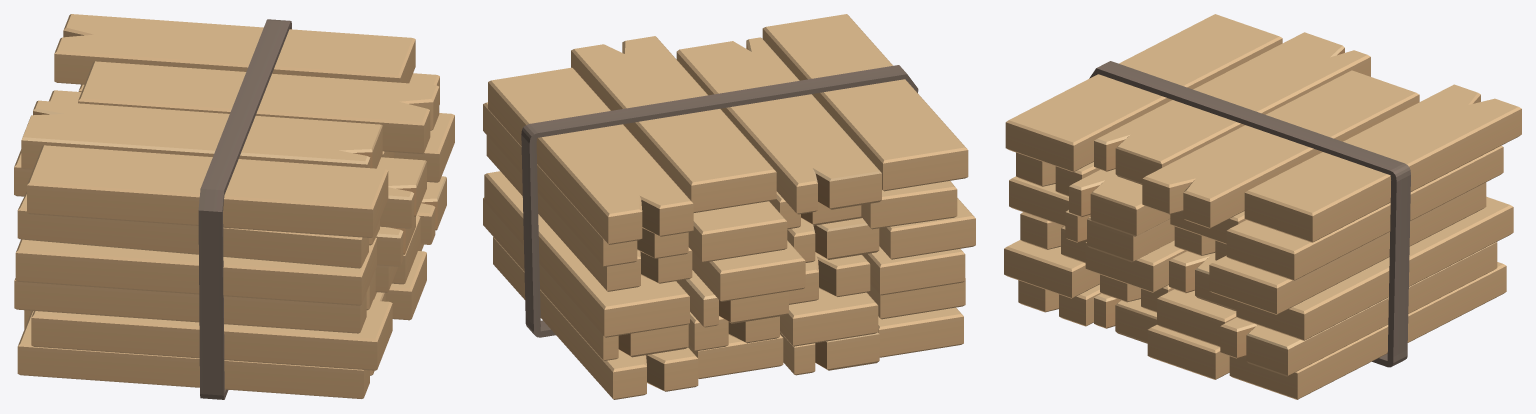
File: Madeira refinada B.fbx
3 views of the same model, side by side, from view 1: azimuth 30°, elevation 25°; view 2: azimuth 150°, elevation 25°; view 3: azimuth 270°, elevation 25° (orthographic). The views are drawn at different scales.
Parts seen in each view (by area): view 1: Madeira refinada B; view 2: Madeira refinada B; view 3: Madeira refinada B.
Part boxes in pixels (x1,y1,x2,y2): Madeira refinada B: [14, 14, 454, 399]; Madeira refinada B: [483, 14, 975, 399]; Madeira refinada B: [1004, 14, 1521, 399].
Bounding box in the file's own units: 268 × 114 × 271.
